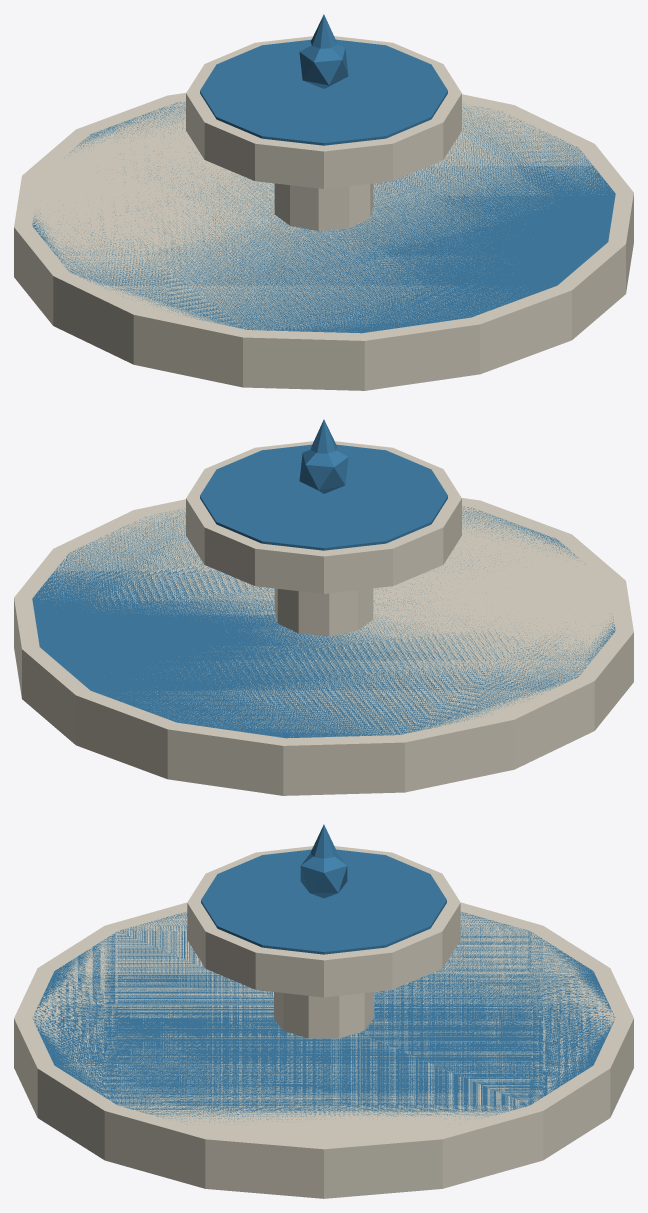
The model's file is prop.fountain-plaza.glb.
3 views of the same model, one above another, from view 1: azimuth 30°, elevation 25°; view 2: azimuth 150°, elevation 25°; view 3: azimuth 270°, elevation 25° (orthographic).
Visible parts, largest first — view 1: prop.fountain-plaza; view 2: prop.fountain-plaza; view 3: prop.fountain-plaza.
Part boxes in pixels (bbox=[...]): prop.fountain-plaza: bbox=[14, 14, 633, 390]; prop.fountain-plaza: bbox=[14, 419, 633, 795]; prop.fountain-plaza: bbox=[14, 824, 633, 1198].
Size of the model in its own units: 6.8 by 2.95 by 6.8.
